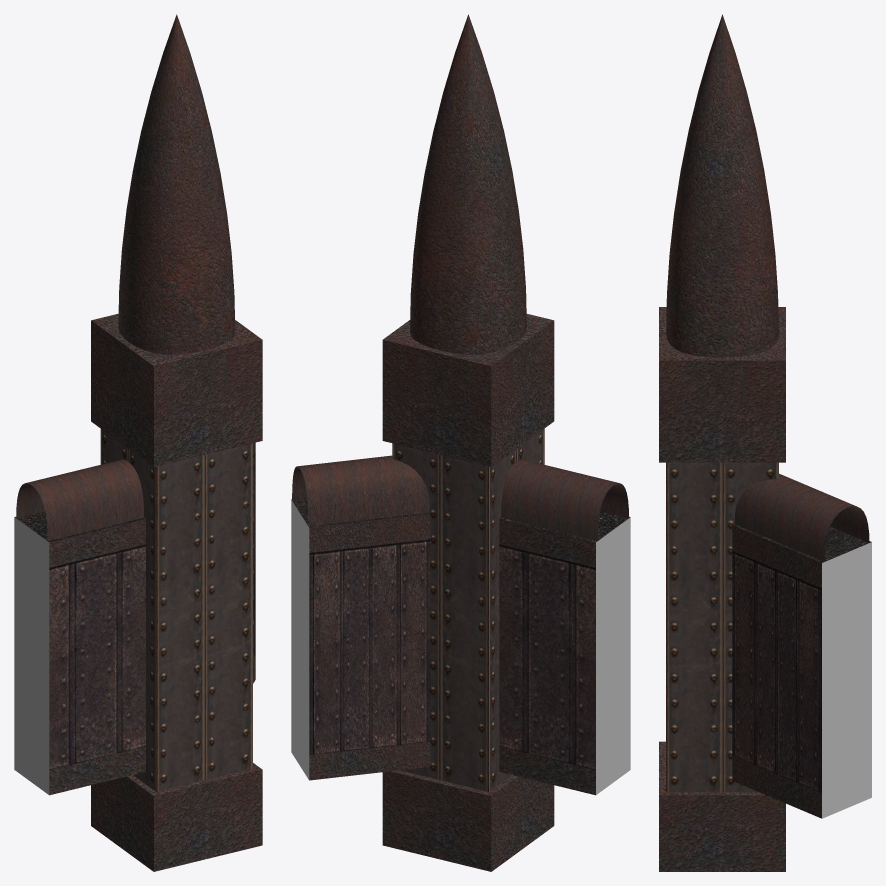
The model's file is 14gate-corner-135.obj.
3 views of the same model, side by side, from view 1: azimuth 30°, elevation 25°; view 2: azimuth 150°, elevation 25°; view 3: azimuth 270°, elevation 25° (orthographic).
Parts seen in each view (by area): view 1: entity0_brush6, entity0_patch4, entity0_brush10, entity0_brush5, entity0_brush7, entity0_patch8, entity0_brush9, entity0_brush11, entity0_brush2; view 2: entity0_brush2, entity0_patch4, entity0_brush10, entity0_brush6, entity0_brush5, entity0_brush7, entity0_patch3, entity0_patch8, entity0_brush9, entity0_brush1, entity0_brush0, entity0_brush11; view 3: entity0_brush2, entity0_patch4, entity0_brush6, entity0_brush5, entity0_brush7, entity0_patch3, entity0_brush1, entity0_brush0.
Boxes of the visible parts, bbox=[...] form: entity0_brush6: bbox=[100, 429, 252, 791]; entity0_patch4: bbox=[118, 14, 235, 354]; entity0_brush10: bbox=[14, 542, 145, 769]; entity0_brush5: bbox=[91, 313, 262, 467]; entity0_brush7: bbox=[91, 763, 262, 871]; entity0_patch8: bbox=[16, 459, 144, 540]; entity0_brush9: bbox=[14, 511, 145, 567]; entity0_brush11: bbox=[14, 745, 145, 795]; entity0_brush2: bbox=[253, 453, 255, 658]; entity0_brush2: bbox=[291, 525, 430, 755]; entity0_patch4: bbox=[410, 14, 526, 354]; entity0_brush10: bbox=[499, 542, 630, 769]; entity0_brush6: bbox=[392, 428, 544, 791]; entity0_brush5: bbox=[382, 314, 554, 467]; entity0_brush7: bbox=[382, 770, 554, 871]; entity0_patch3: bbox=[292, 455, 429, 526]; entity0_patch8: bbox=[501, 459, 628, 540]; entity0_brush9: bbox=[499, 511, 630, 567]; entity0_brush1: bbox=[291, 499, 430, 552]; entity0_brush0: bbox=[291, 727, 430, 780]; entity0_brush11: bbox=[499, 745, 630, 795]; entity0_brush2: bbox=[732, 551, 871, 792]; entity0_patch4: bbox=[666, 14, 778, 357]; entity0_brush6: bbox=[666, 462, 778, 792]; entity0_brush5: bbox=[659, 307, 785, 462]; entity0_brush7: bbox=[659, 741, 785, 871]; entity0_patch3: bbox=[735, 473, 869, 561]; entity0_brush1: bbox=[732, 524, 871, 588]; entity0_brush0: bbox=[732, 755, 871, 818].
Size of the model in its own units: 181 by 520 by 121.
